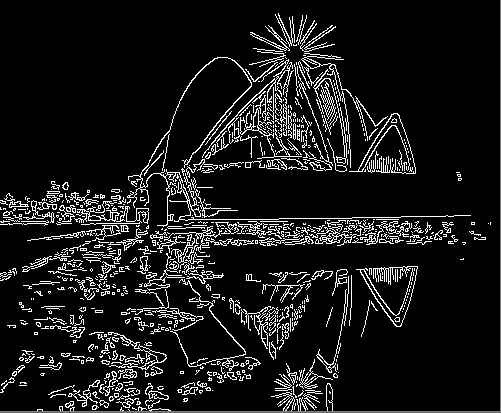opera house: (99, 40, 451, 211)
